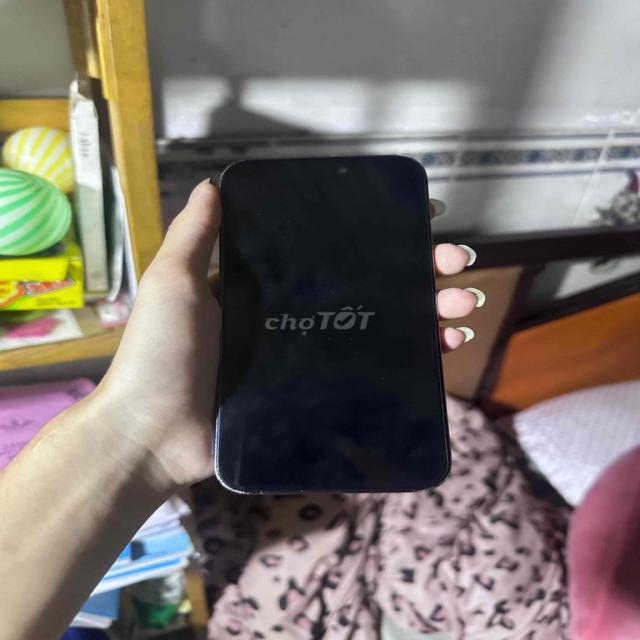gen_14: (192, 144, 465, 509)
